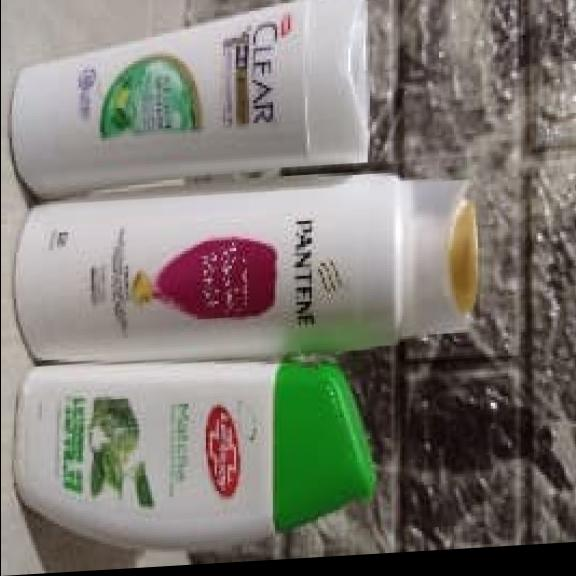Plastik: (16, 175, 477, 361)
